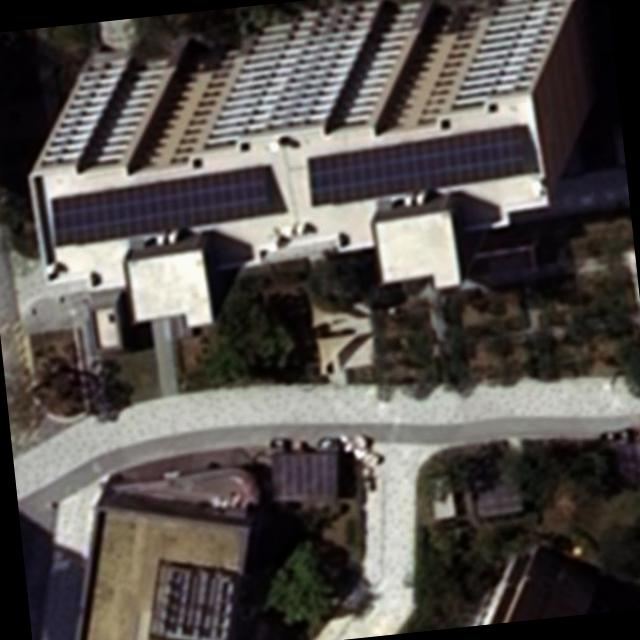solar: (302, 120, 540, 208), (48, 162, 288, 248)
